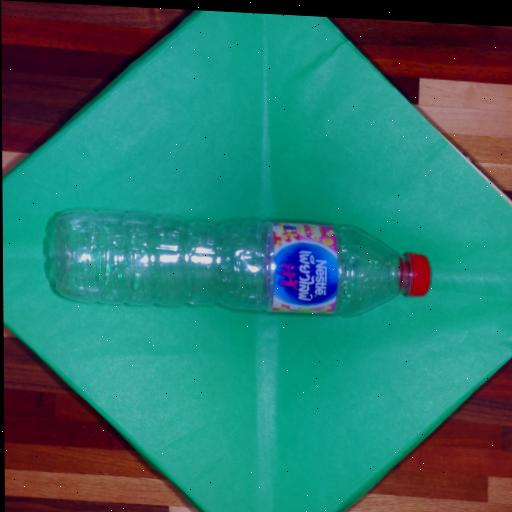bottle: (28, 189, 456, 338)
